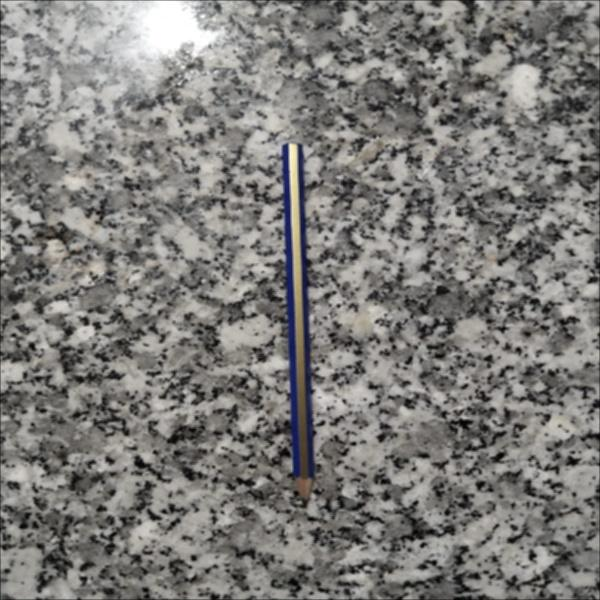pencil: (281, 136, 320, 515)
